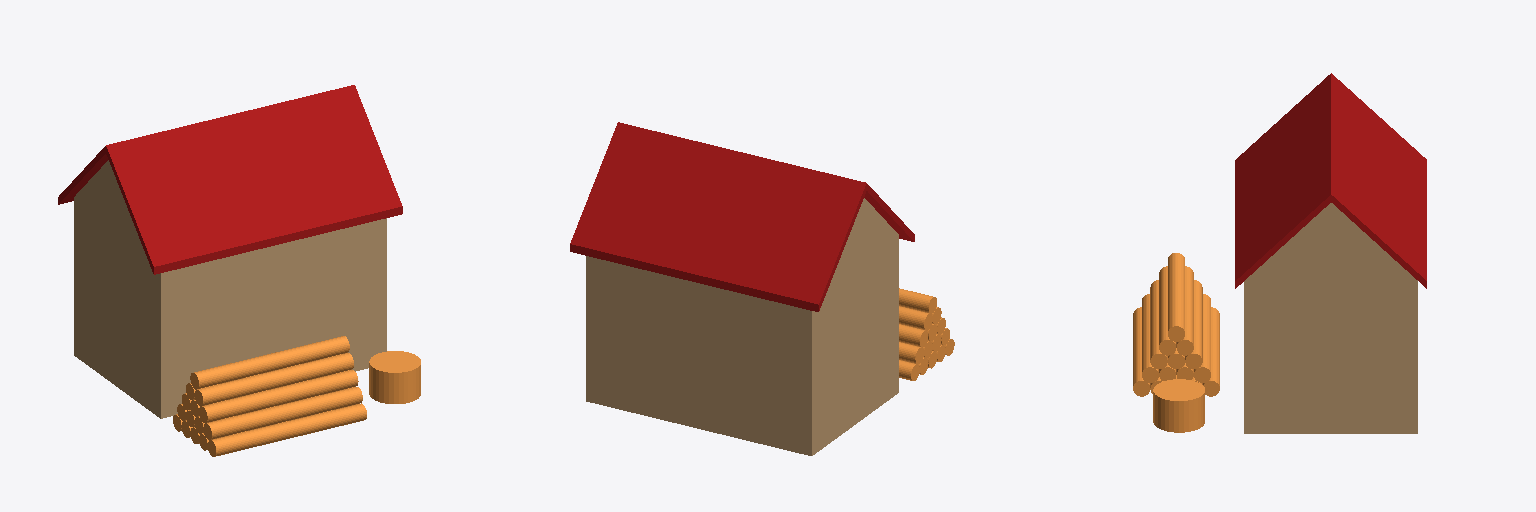
The model's file is BForester.obj.
The picture shows the model from 3 angles: view 1: azimuth 30°, elevation 25°; view 2: azimuth 150°, elevation 25°; view 3: azimuth 270°, elevation 25°; orthographic projection.
Parts seen in each view (by area): view 1: Walls, Roof, Logs, Log; view 2: Walls, Roof, Logs; view 3: Walls, Roof, Logs, Log.
Part boxes in pixels (left/top/right/bottom): Walls: left=74, top=160, right=386, bottom=418; Roof: left=58, top=85, right=402, bottom=274; Logs: left=173, top=336, right=366, bottom=456; Log: left=369, top=351, right=420, bottom=403; Walls: left=586, top=198, right=898, bottom=455; Roof: left=570, top=122, right=914, bottom=311; Logs: left=899, top=288, right=954, bottom=380; Walls: left=1244, top=203, right=1417, bottom=433; Roof: left=1235, top=73, right=1426, bottom=288; Logs: left=1133, top=253, right=1219, bottom=396; Log: left=1153, top=379, right=1204, bottom=432.
Size of the model in its own units: 3.3 by 3.1 by 3.38.